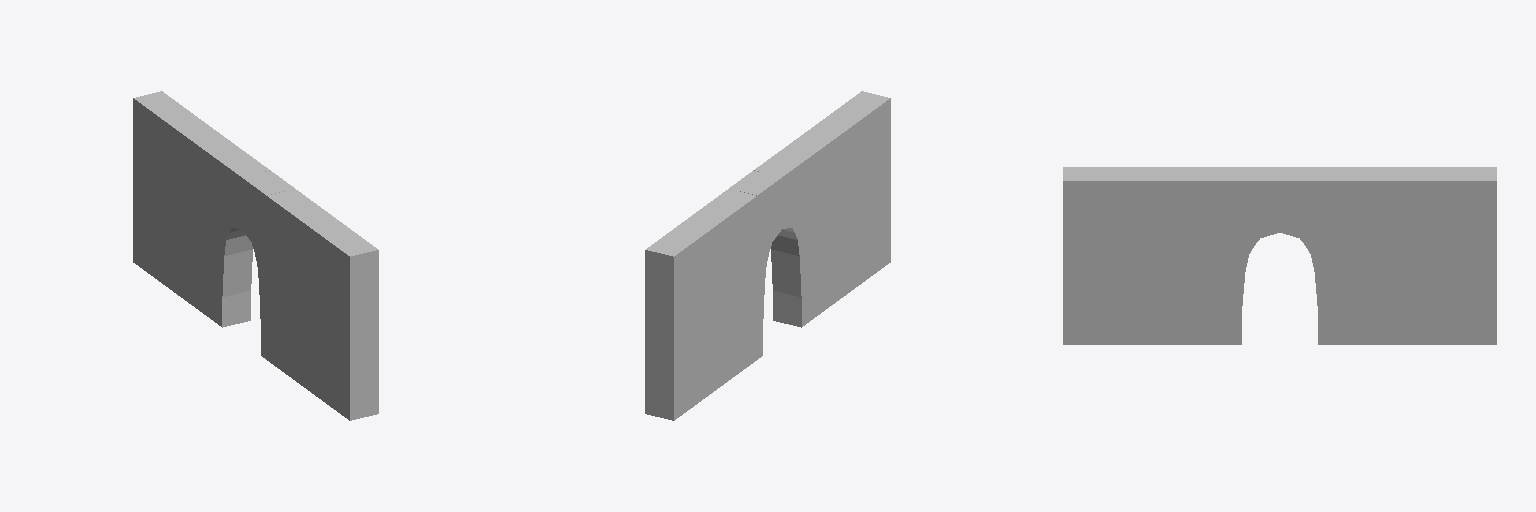
The model's file is Entrance.obj.
3 views of the same model, side by side, from view 1: azimuth 30°, elevation 25°; view 2: azimuth 150°, elevation 25°; view 3: azimuth 270°, elevation 25° (orthographic).
Parts seen in each view (by area): view 1: Cube; view 2: Cube; view 3: Cube.
Boxes of the visible parts, <box> form: Cube: <box>133,91,378,420</box>; Cube: <box>645,91,890,420</box>; Cube: <box>1063,167,1496,344</box>.
Bounding box in the file's own units: 2 × 10.92 × 26.09.